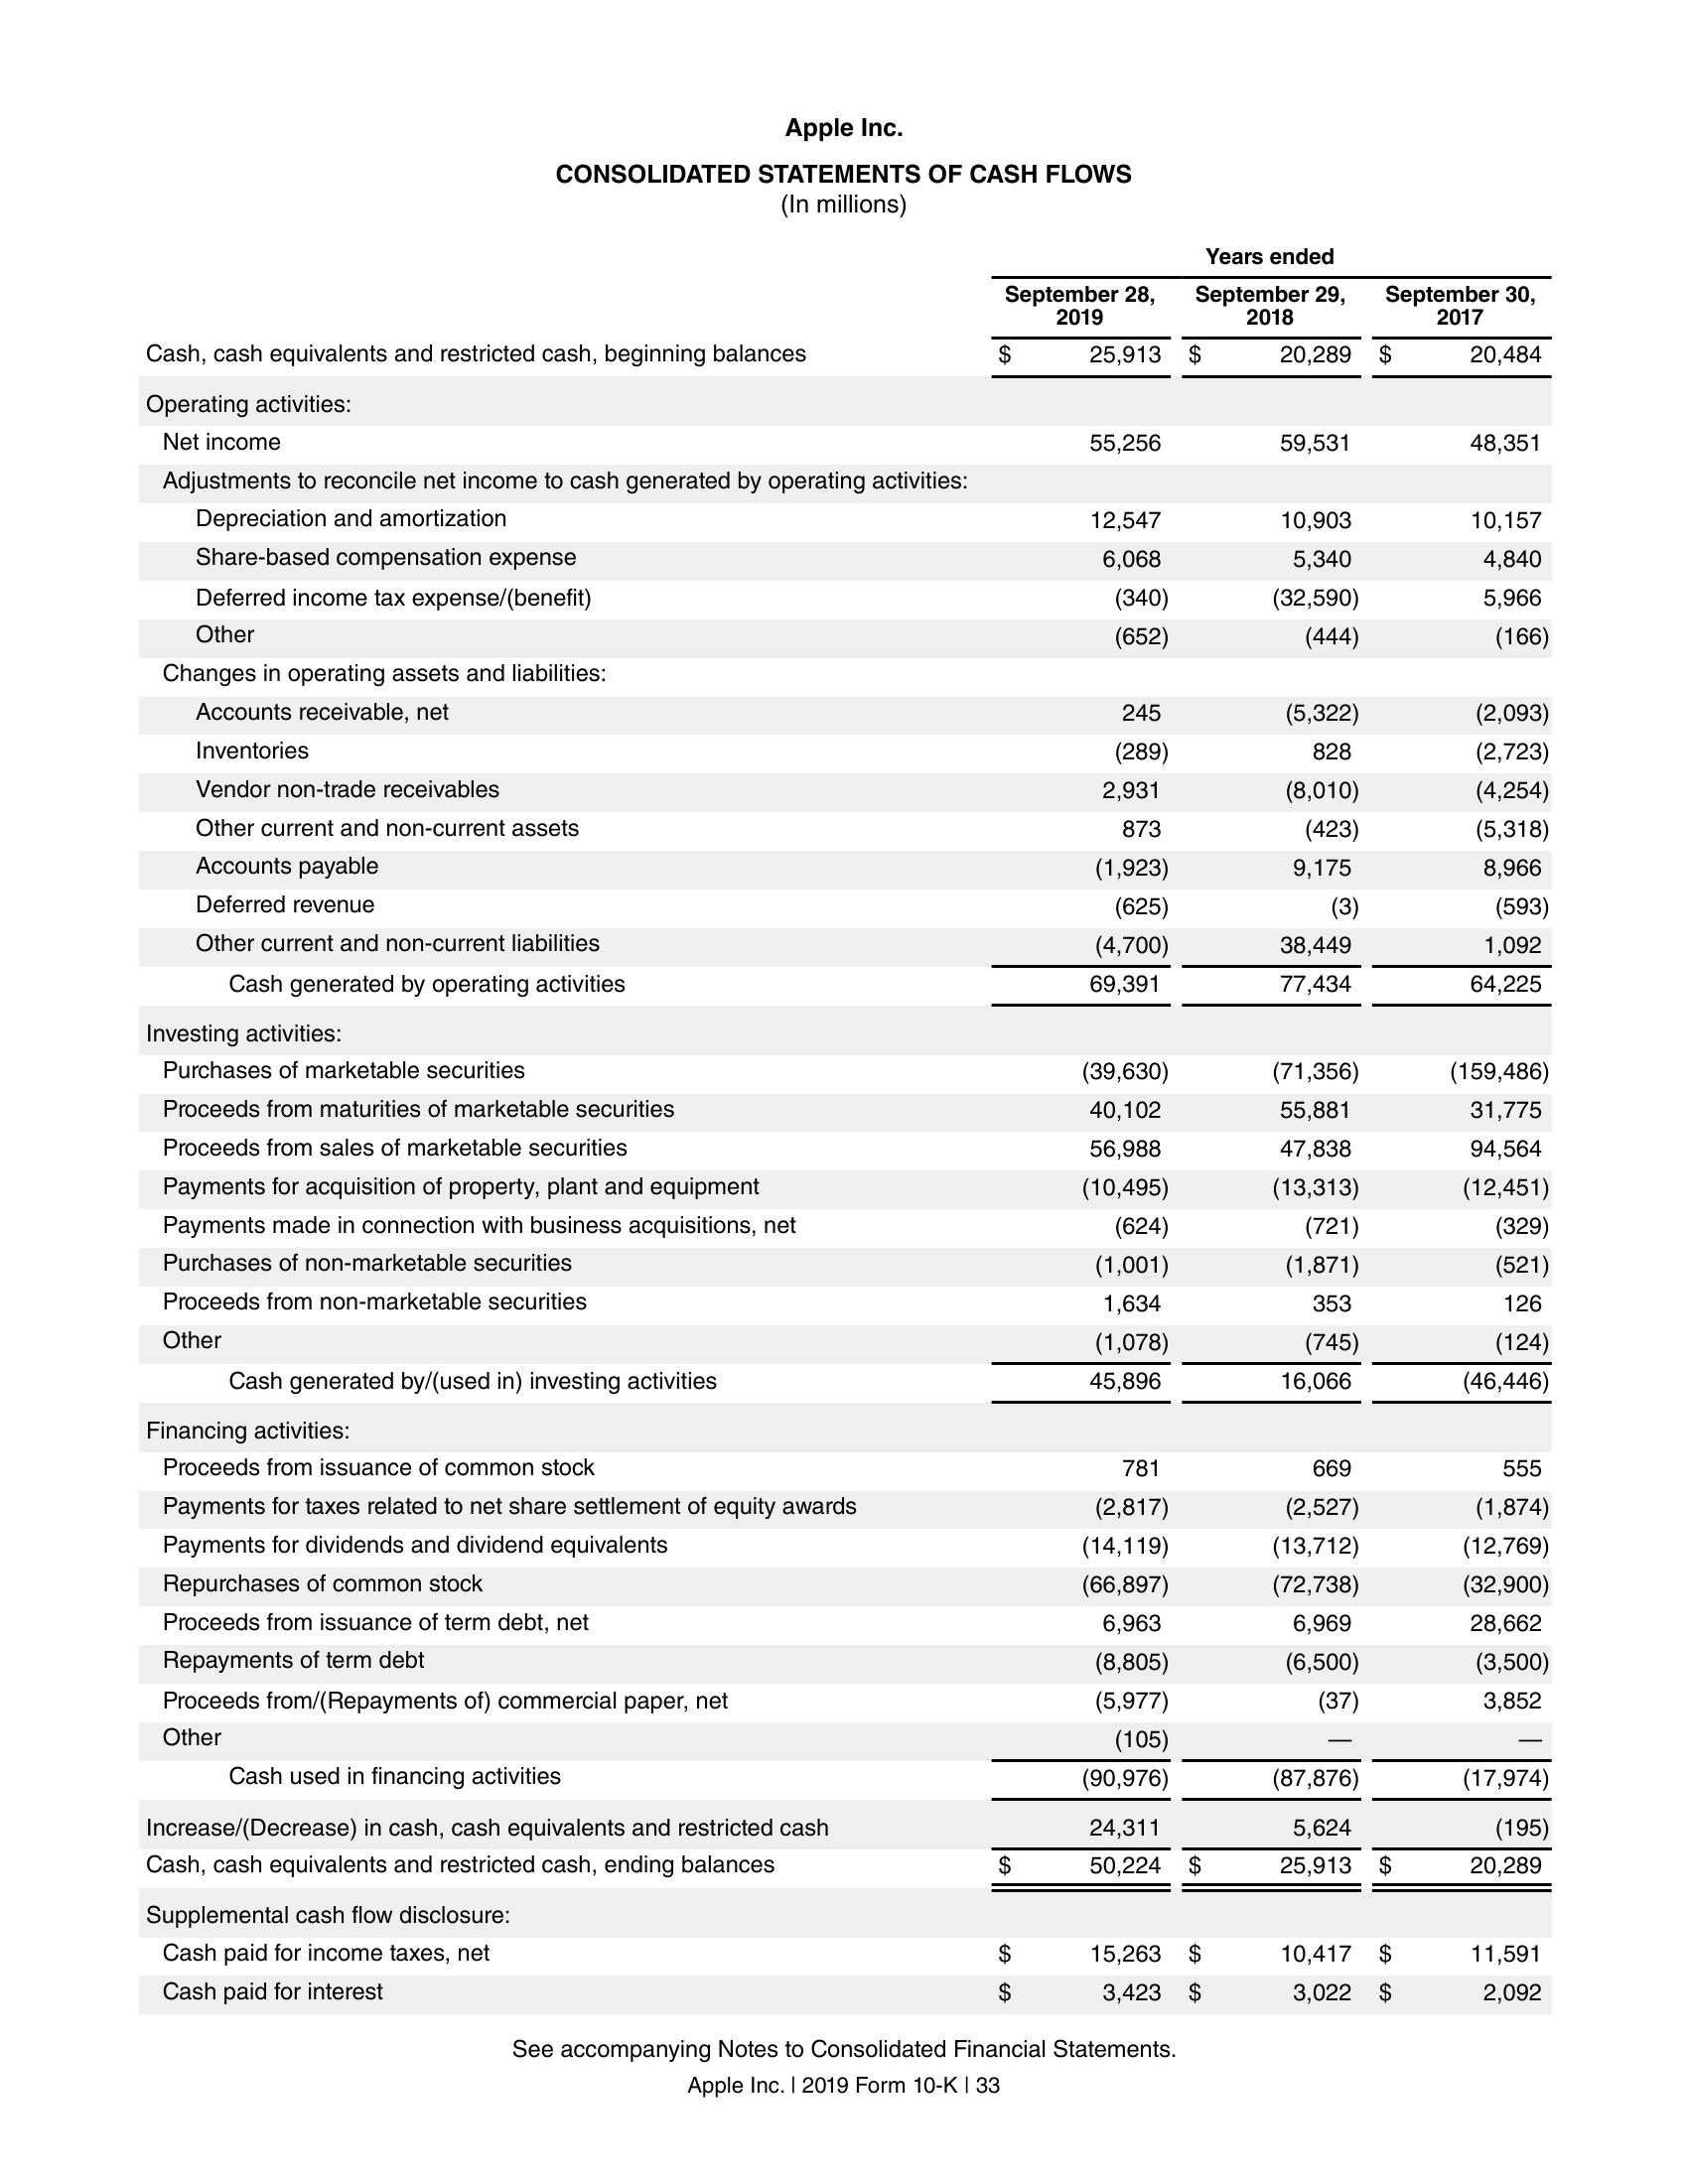table: (131, 243, 1553, 2014)
